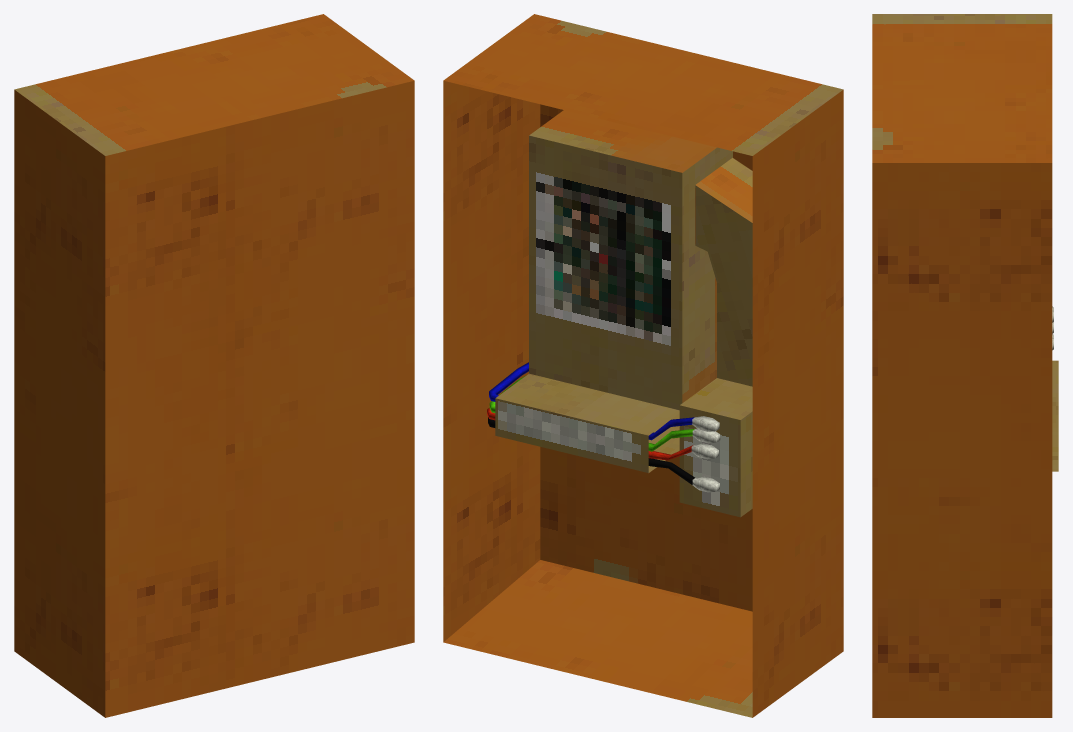
File: caja_cables.gltf
3 renders of one model, left to right at view 1: azimuth 30°, elevation 25°; view 2: azimuth 150°, elevation 25°; view 3: azimuth 270°, elevation 25°, orthographic.
Visible parts, largest first — view 1: CajaCables; view 2: CajaCables, CableAzul, CableNegro, CableVerde, CableRojo; view 3: CajaCables.
Part boxes in pixels (x1,y1,x2,y2): CajaCables: [14, 14, 414, 717]; CajaCables: [443, 14, 843, 717]; CableAzul: [489, 362, 719, 440]; CableNegro: [488, 417, 719, 492]; CableVerde: [489, 375, 720, 451]; CableRojo: [487, 407, 718, 460]; CajaCables: [872, 14, 1058, 717].
Size of the model in its own units: 0.408 by 0.708 by 0.2151.
2 materials, 2 textured.
